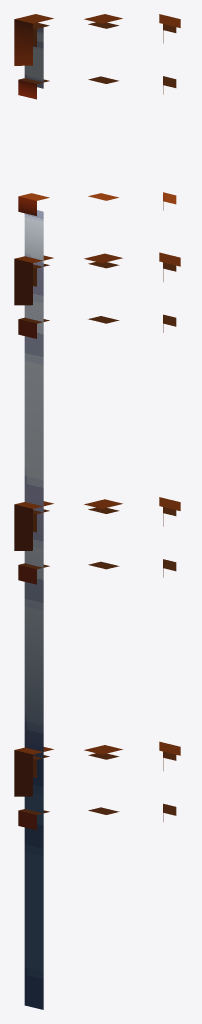
3 renders of one model, left to right at view 1: azimuth 30°, elevation 25°; view 2: azimuth 210°, elevation 25°; view 3: azimuth 330°, elevation 25°, orthographic.
Bounding box in the file's own units: 1.31 × 40.25 × 0.6875.
Materials: 2 (2 with a texture image).
